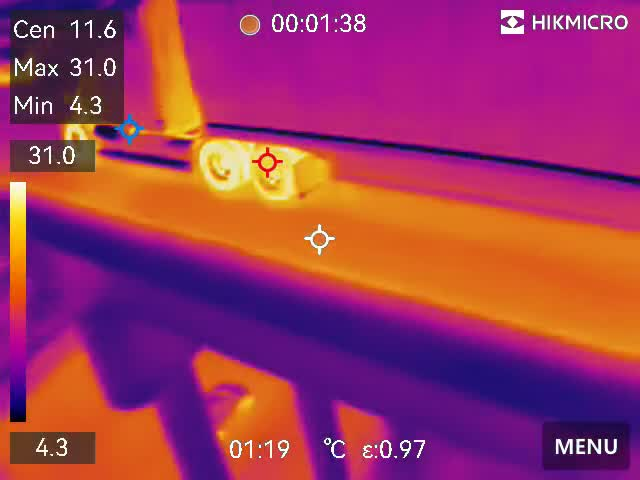heavyTruck: (63, 4, 640, 253)
